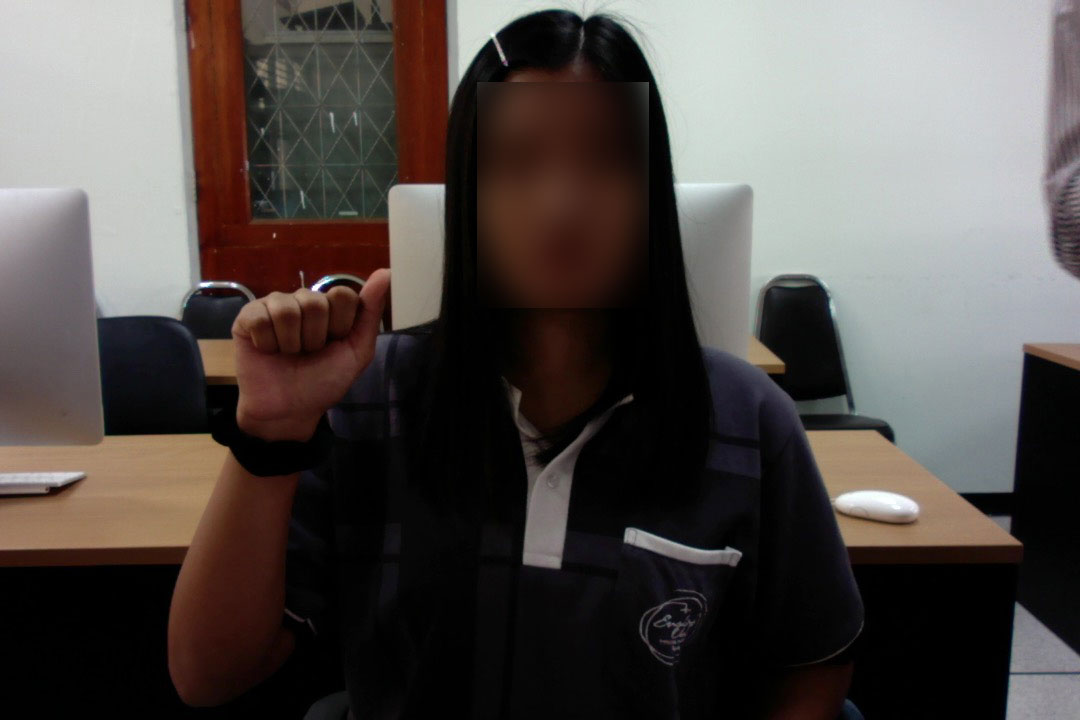or: (222, 260, 399, 451)
